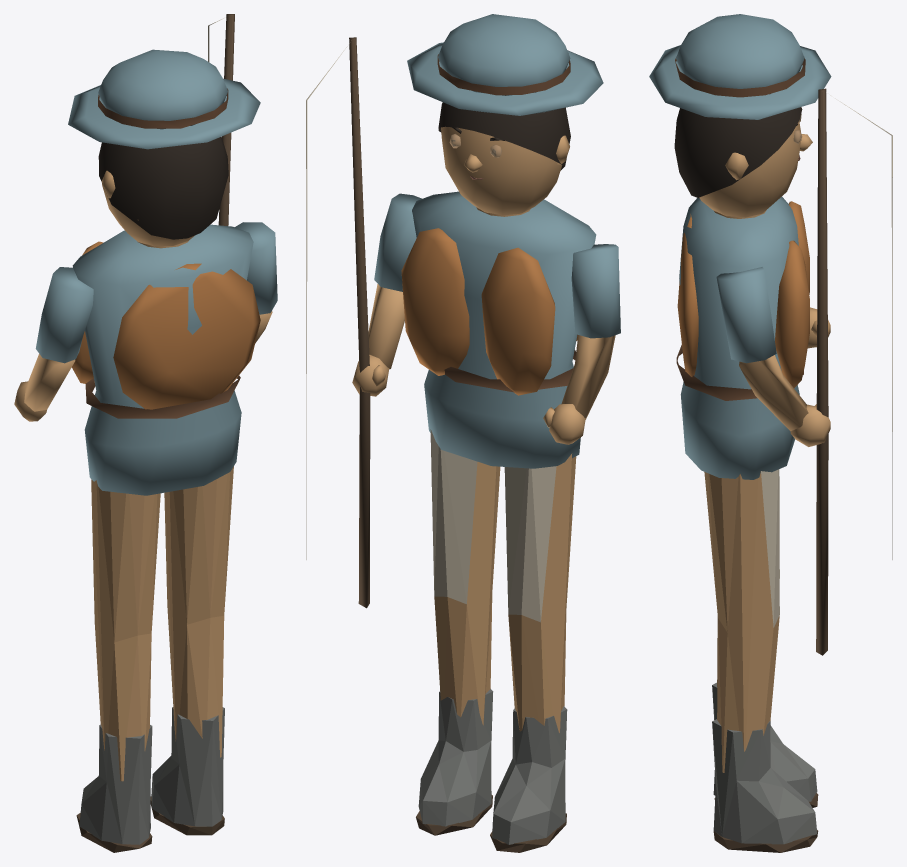
File: SM_NPC_FIN_MEDIA.glb
The picture shows the model from 3 angles, left to right: view 1: azimuth 30°, elevation 25°; view 2: azimuth 150°, elevation 25°; view 3: azimuth 270°, elevation 25°; orthographic projection. The views are drawn at different scales.
Parts seen in each view (by area): view 1: SM_NPC_FIN_BODY, SM_NPC_FIN_HEAD, SM_NPC_FIN_ARM_L, SM_NPC_FIN_ARM_R; view 2: SM_NPC_FIN_BODY, SM_NPC_FIN_HEAD, SM_NPC_FIN_ARM_R, SM_NPC_FIN_ARM_L; view 3: SM_NPC_FIN_BODY, SM_NPC_FIN_HEAD, SM_NPC_FIN_ARM_R.
Part boxes in pixels (x1=…): SM_NPC_FIN_BODY: x1=71, y1=224, x2=260, y2=852; SM_NPC_FIN_HEAD: x1=68, y1=49, x2=260, y2=246; SM_NPC_FIN_ARM_L: x1=14, y1=267, x2=93, y2=421; SM_NPC_FIN_ARM_R: x1=208, y1=14, x2=277, y2=343; SM_NPC_FIN_BODY: x1=401, y1=191, x2=596, y2=852; SM_NPC_FIN_HEAD: x1=407, y1=14, x2=603, y2=215; SM_NPC_FIN_ARM_R: x1=306, y1=37, x2=421, y2=608; SM_NPC_FIN_ARM_L: x1=543, y1=244, x2=620, y2=444; SM_NPC_FIN_BODY: x1=676, y1=196, x2=818, y2=852; SM_NPC_FIN_HEAD: x1=649, y1=14, x2=831, y2=217; SM_NPC_FIN_ARM_R: x1=716, y1=88, x2=892, y2=655.
Size of the model in its own units: 0.6043 by 1.89 by 0.5224.
